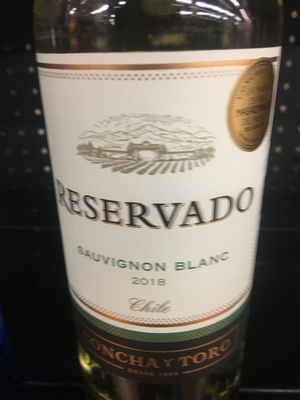reservado sauvignon blanc: (33, 10, 285, 400)
